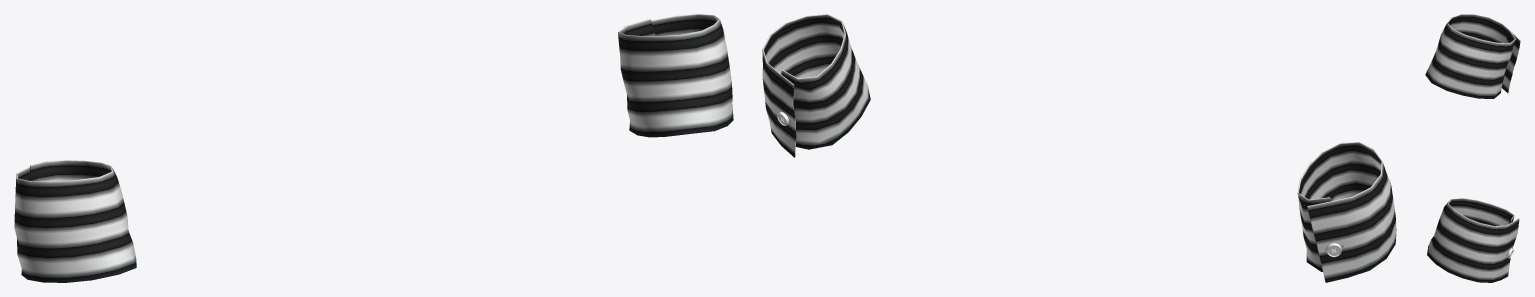
Rendered from 1_Button.glb.
3 renders of one model, left to right at view 1: azimuth 30°, elevation 25°; view 2: azimuth 150°, elevation 25°; view 3: azimuth 270°, elevation 25°, orthographic. The views are drawn at different scales.
Parts seen in each view (by area): view 1: Pattern_2052443_Node, Pattern_2052444_Node; view 2: Pattern_2052444_Node, Pattern_2052443_Node; view 3: Pattern_2052443_Node, Pattern_2052444_Node.
Part boxes in pixels (bbox=[...]): Pattern_2052443_Node: bbox=[14, 160, 136, 282]; Pattern_2052444_Node: bbox=[618, 14, 733, 137]; Pattern_2052444_Node: bbox=[762, 14, 870, 157]; Pattern_2052443_Node: bbox=[1297, 142, 1396, 282]; Pattern_2052443_Node: bbox=[1425, 14, 1520, 98]; Pattern_2052444_Node: bbox=[1427, 198, 1519, 282].
Bounding box in the file's own units: 60.06 × 10.34 × 11.59.
Materials: 8 (4 with a texture image).
